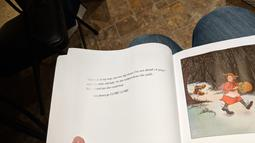text block: (81, 67, 168, 98)
